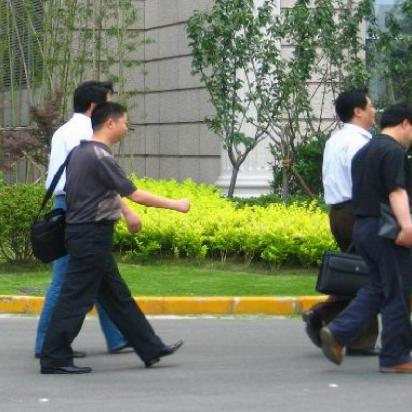ped: (43, 103, 193, 373), (323, 103, 412, 374)
